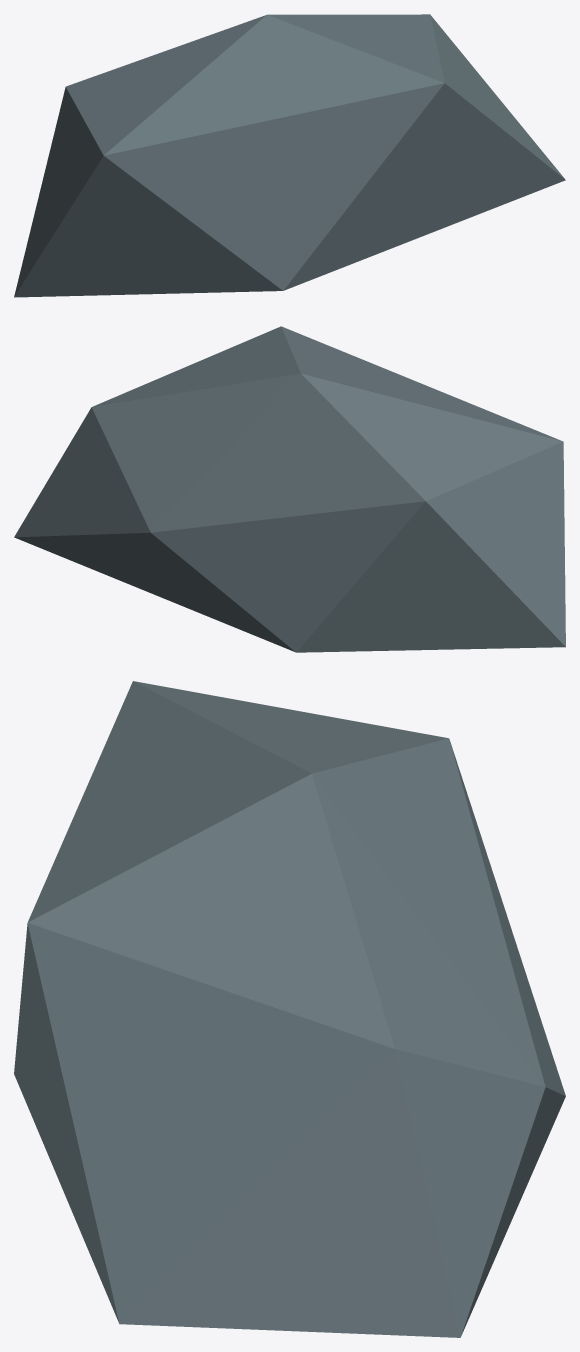
File: Steen laag3.fbx
The picture shows the model from 3 angles, top to bottom: view 1: azimuth 30°, elevation 25°; view 2: azimuth 150°, elevation 25°; view 3: azimuth 270°, elevation 25°; orthographic projection. The views are drawn at different scales.
Parts seen in each view (by area): view 1: Icosphere; view 2: Icosphere; view 3: Icosphere.
Part boxes in pixels (<box>): Icosphere: <box>14,14,565,297</box>; Icosphere: <box>14,326,565,652</box>; Icosphere: <box>14,681,565,1337</box>.
Size of the model in its own units: 139 by 56.68 by 73.27.
